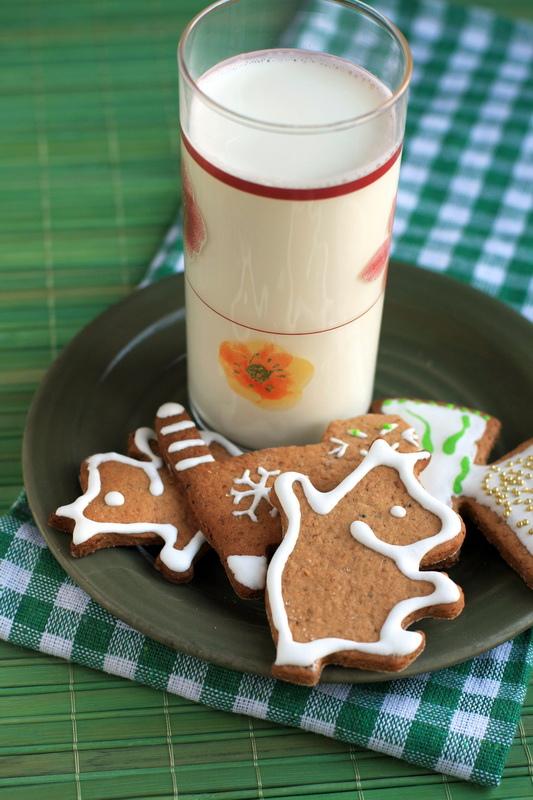glass of milk: (181, 2, 409, 423)
